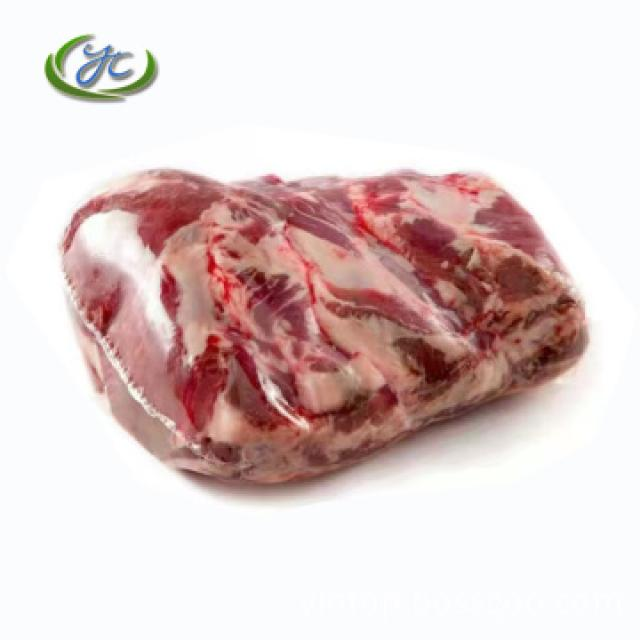pork: (35, 124, 623, 500)
